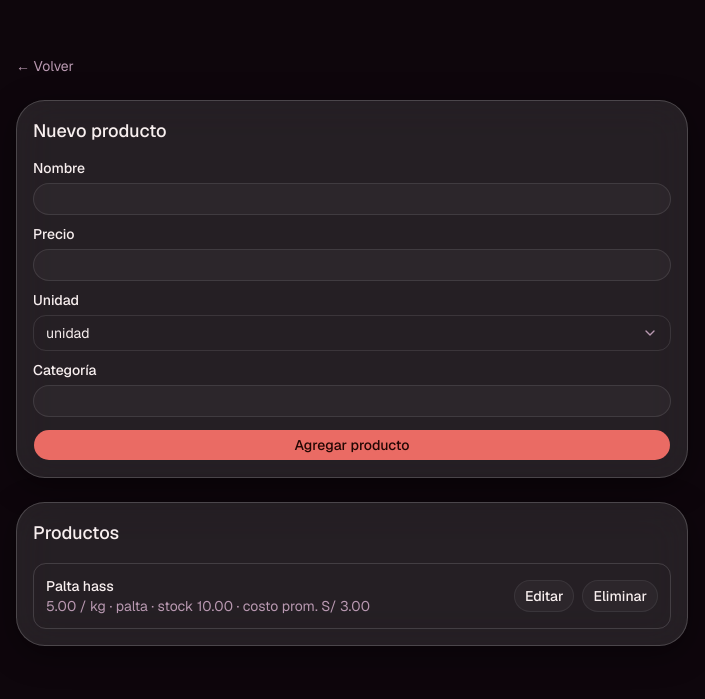
ProductsPage › edits a product
Expected: the text "Palta hass" is shown, [46,577,114,595]
Click the button "Editar": [544, 596] box [514,580,574,612]
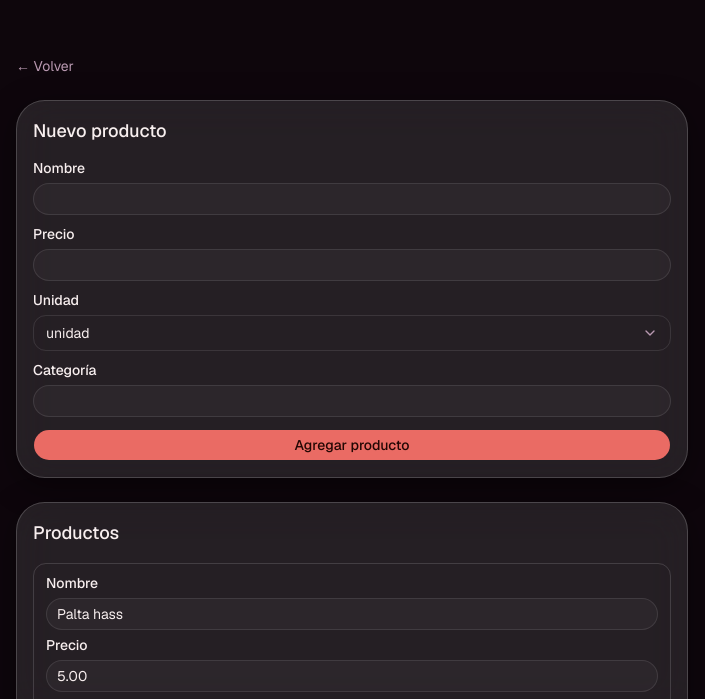
Replace the text in the field labelled "Precio" below "Productos" with "6.00": [352, 676] box [46,660,658,692]
(page scrolled)
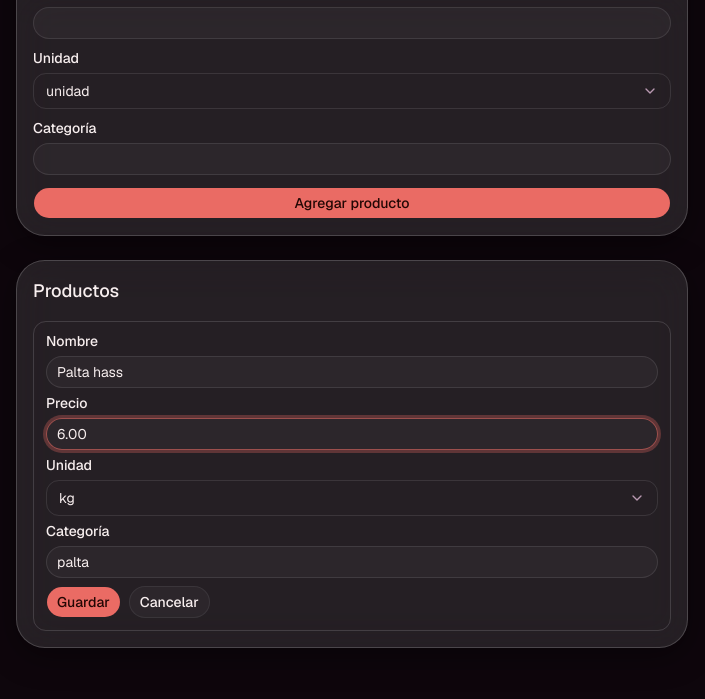
Click the button "Guardar": [83, 602] box [46,586,121,618]
(page scrolled)
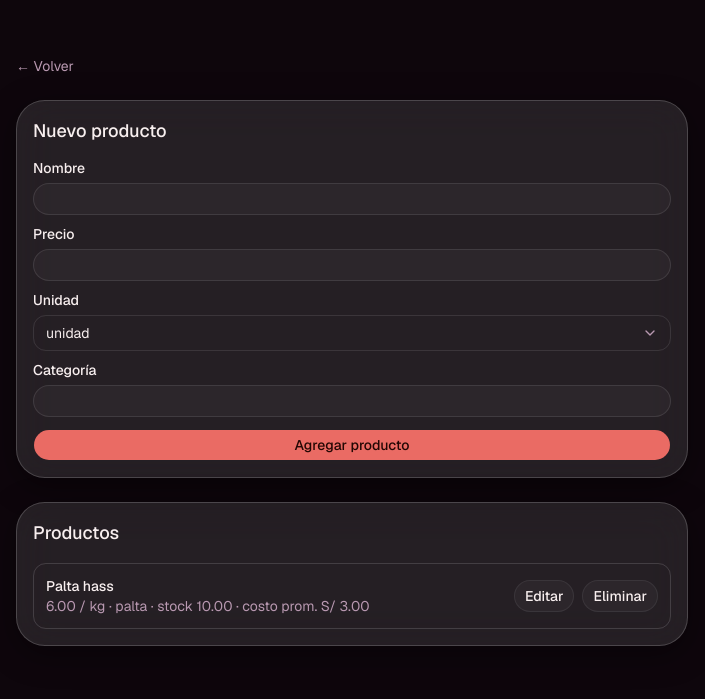
Expected: the text "6.00 / kg · palta · stock 10.00 · costo prom. S/ 3.00" is shown, [46,596,370,616]
